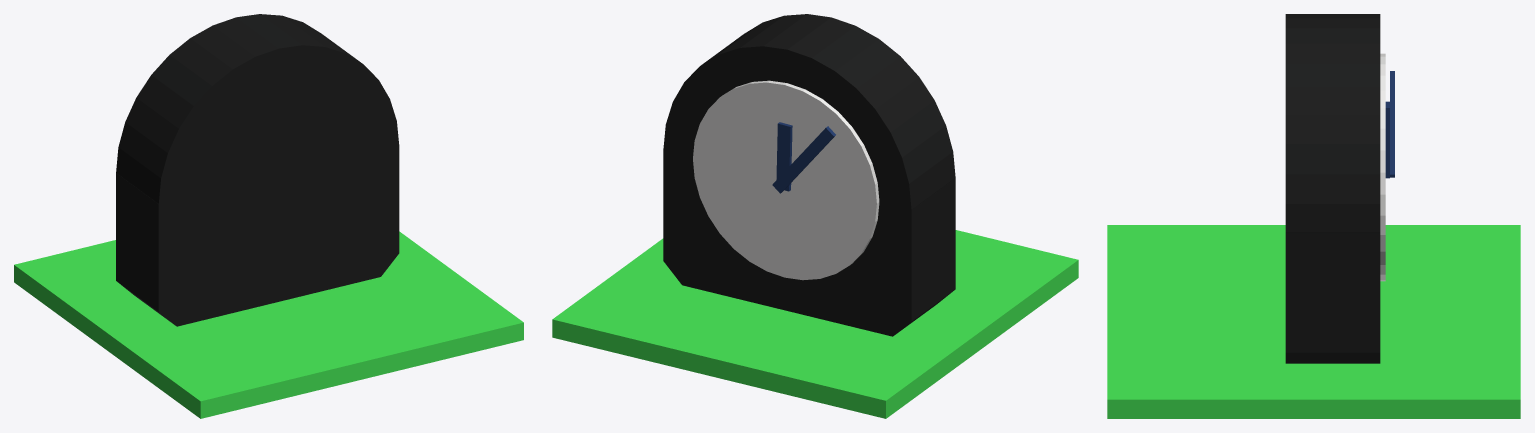
Rendered from Clock.fbx.
3 renders of one model, left to right at view 1: azimuth 30°, elevation 25°; view 2: azimuth 150°, elevation 25°; view 3: azimuth 270°, elevation 25°, orthographic. The views are drawn at different scales.
Visible parts, largest first — view 1: Cylinder.001, Cube.004; view 2: Cylinder.001, Cube.004, Cylinder, Cube, Cube.001; view 3: Cube.004, Cylinder.001, Cylinder, Cube, Cube.001.
Part boxes in pixels (<box>): Cylinder.001: <box>116,14,399,326</box>; Cube.004: <box>14,231,523,418</box>; Cylinder.001: <box>663,14,955,336</box>; Cube.004: <box>552,230,1078,418</box>; Cylinder: <box>693,80,879,280</box>; Cube: <box>772,126,835,193</box>; Cube.001: <box>776,122,792,191</box>; Cube.004: <box>1107,225,1520,418</box>; Cylinder.001: <box>1285,14,1380,363</box>; Cylinder: <box>1380,53,1385,281</box>; Cube: <box>1390,71,1394,177</box>; Cube.001: <box>1385,101,1389,178</box>.
Size of the model in its own units: 233 by 188 by 233.
